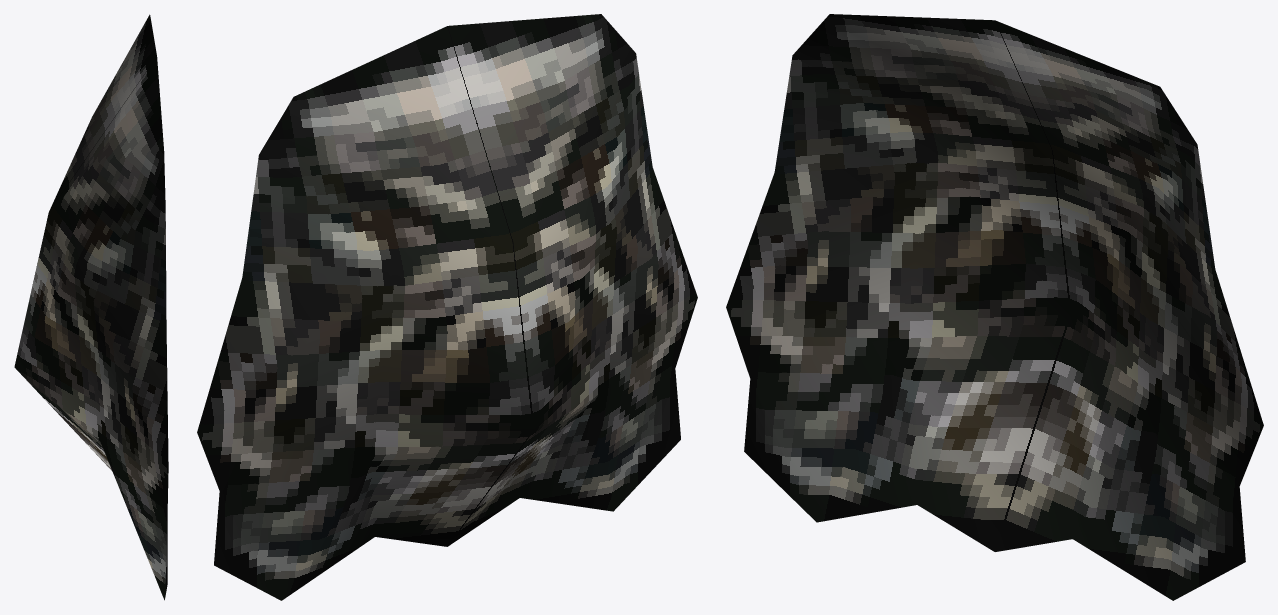
Rendered from OVERHILL_A_01_LINE198.fbx.
3 views of the same model, side by side, from view 1: azimuth 30°, elevation 25°; view 2: azimuth 150°, elevation 25°; view 3: azimuth 270°, elevation 25° (orthographic). The views are drawn at different scales.
Visible parts, largest first — view 1: OVERHILL_A_01_LINE198; view 2: OVERHILL_A_01_LINE198; view 3: OVERHILL_A_01_LINE198.
Boxes of the visible parts, <box> form: OVERHILL_A_01_LINE198: <box>14,14,168,600</box>; OVERHILL_A_01_LINE198: <box>197,14,697,600</box>; OVERHILL_A_01_LINE198: <box>726,14,1263,600</box>.
Size of the model in its own units: 2081 by 4353 by 3919.
1 material, 1 textured.
